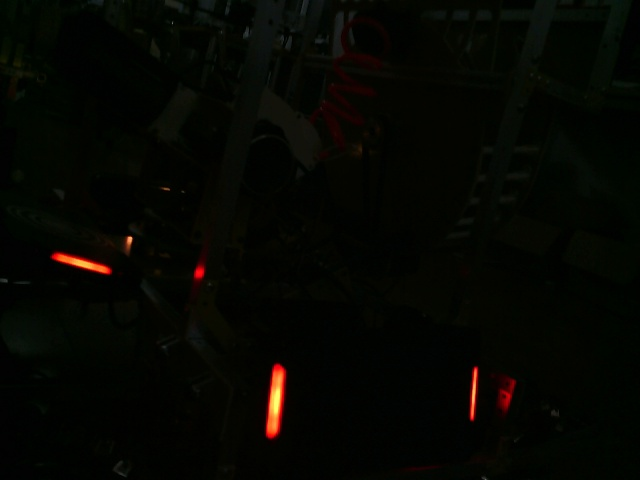lamp: (265, 361, 289, 443), (468, 363, 480, 430)
